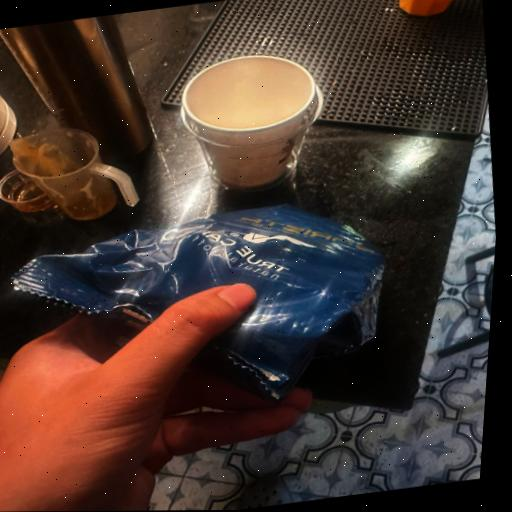cafe_hat: (15, 205, 385, 399)
